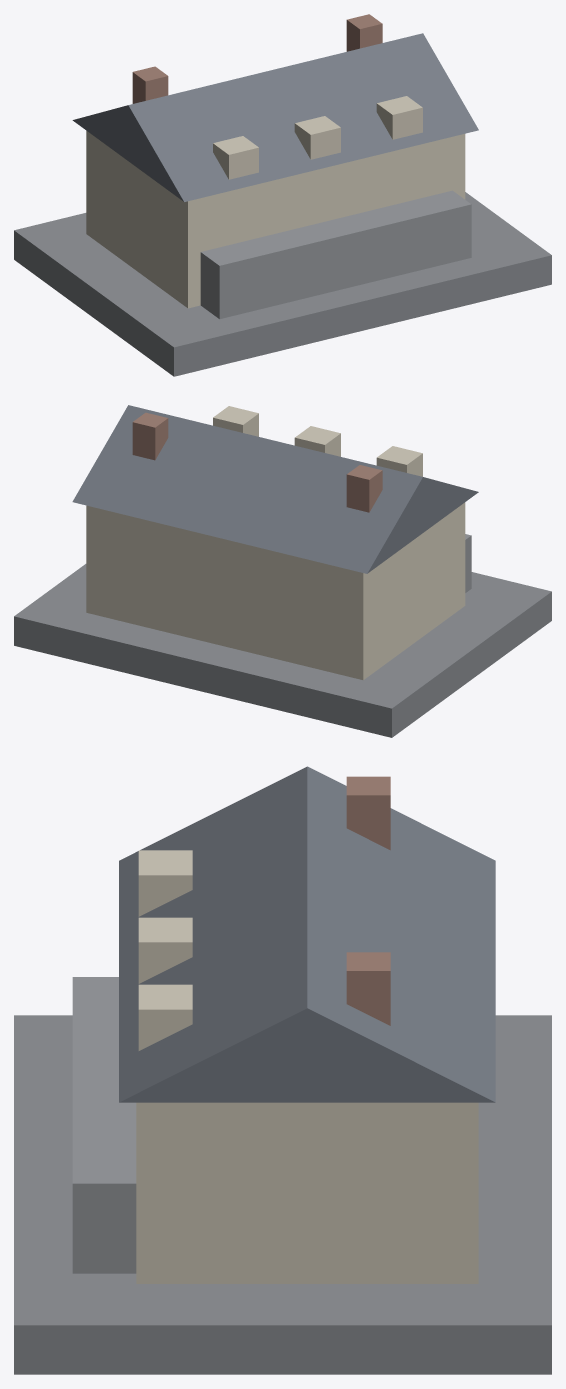
File: lm_129_biet_thu_phap_co_bui_thi_xuan_nguyen_van_troi_basalt_arch_mansard_villa.glb
The picture shows the model from 3 angles, top to bottom: view 1: azimuth 30°, elevation 25°; view 2: azimuth 150°, elevation 25°; view 3: azimuth 270°, elevation 25°; orthographic projection. The views are drawn at different scales.
Visible parts, largest first — view 1: lm_129; view 2: lm_129; view 3: lm_129.
Part boxes in pixels (box(x1,y1,x2,y2)): lm_129: box(14, 14, 551, 376); lm_129: box(14, 405, 551, 737); lm_129: box(14, 766, 551, 1374).
Bounding box in the file's own units: 30 × 15.6 × 22.
